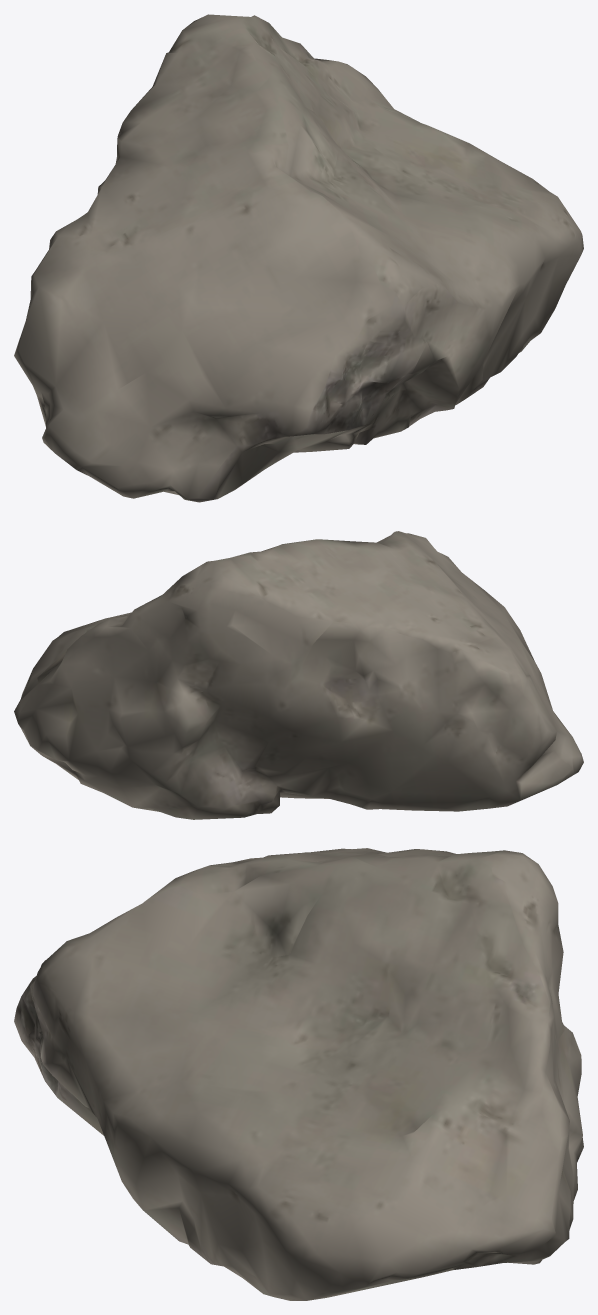
The model's file is moon_rock_03.glb.
The picture shows the model from 3 angles, top to bottom: view 1: azimuth 30°, elevation 25°; view 2: azimuth 150°, elevation 25°; view 3: azimuth 270°, elevation 25°; orthographic projection. The views are drawn at different scales.
Visible parts, largest first — view 1: moon_rock_03_LOD0; view 2: moon_rock_03_LOD0; view 3: moon_rock_03_LOD0.
Part boxes in pixels (<box>): moon_rock_03_LOD0: <box>14,14,583,502</box>; moon_rock_03_LOD0: <box>14,531,583,819</box>; moon_rock_03_LOD0: <box>14,848,583,1300</box>.
Bounding box in the file's own units: 0.112 × 0.0582 × 0.0861.
Materials: 1 (1 with a texture image).
